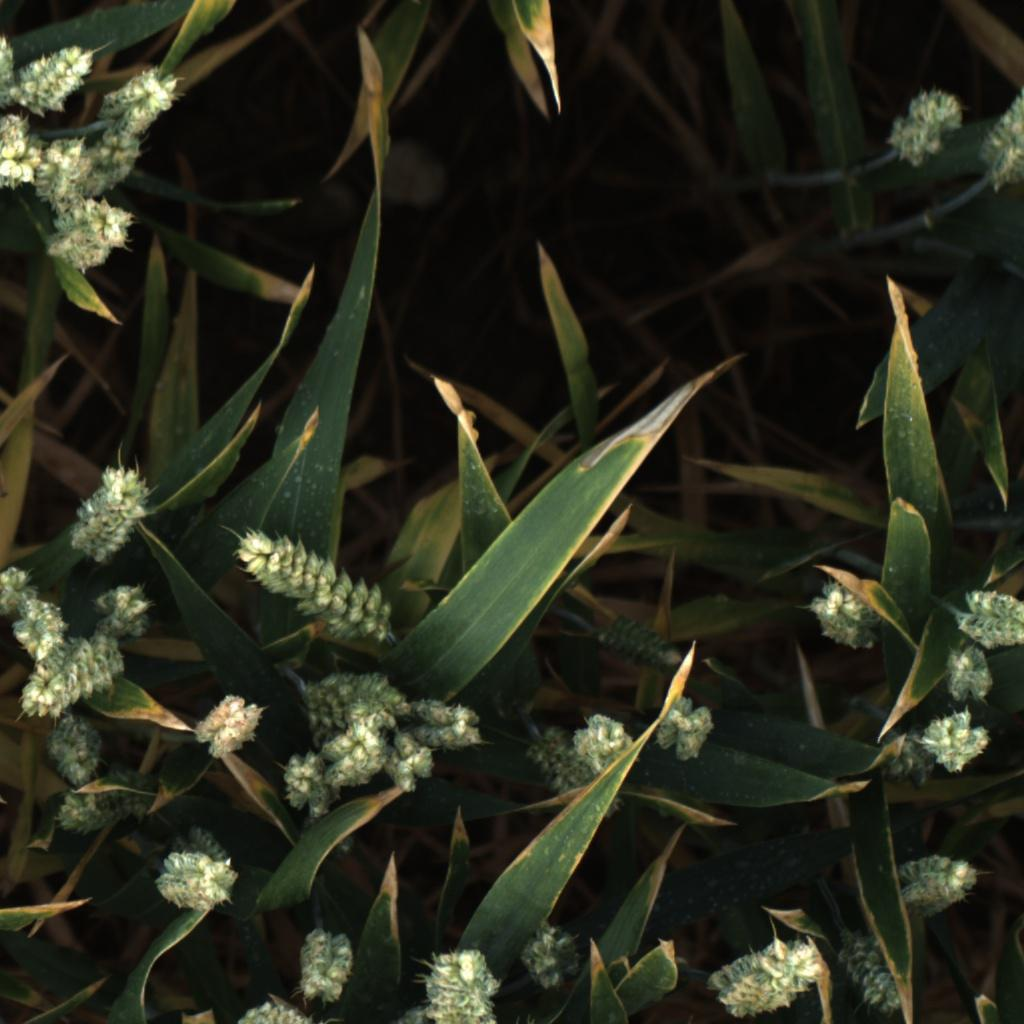0-0: (220, 530, 400, 649), (16, 628, 138, 723), (715, 928, 827, 1020), (521, 728, 626, 823), (69, 458, 153, 566), (46, 193, 141, 280), (878, 79, 968, 168), (3, 39, 97, 124), (804, 574, 893, 659), (298, 670, 415, 734), (57, 773, 152, 847), (92, 62, 187, 136), (153, 843, 241, 916), (835, 925, 902, 1019), (422, 948, 503, 1024), (592, 612, 687, 675), (705, 936, 795, 1002), (291, 929, 364, 1007), (192, 687, 263, 765), (566, 708, 645, 777), (896, 858, 981, 921), (403, 696, 492, 756), (87, 120, 149, 206), (917, 710, 1001, 773), (980, 76, 1024, 190), (647, 696, 720, 764), (88, 581, 164, 646), (328, 716, 392, 793), (45, 713, 111, 787), (377, 723, 443, 797), (953, 585, 1024, 652), (0, 111, 55, 197), (875, 726, 948, 790), (515, 919, 579, 990), (277, 743, 336, 819), (36, 133, 92, 212), (934, 643, 1003, 707), (10, 599, 72, 665), (890, 850, 973, 889), (233, 998, 337, 1024), (0, 563, 39, 618), (0, 31, 21, 115), (392, 1000, 442, 1024)
